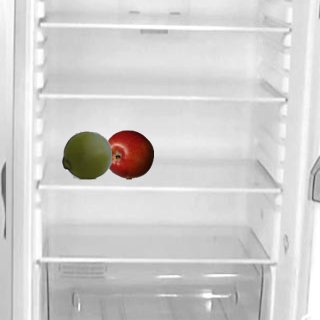Apple Braeburn: (103, 129, 153, 179)
Grape White 4: (61, 129, 111, 179)
